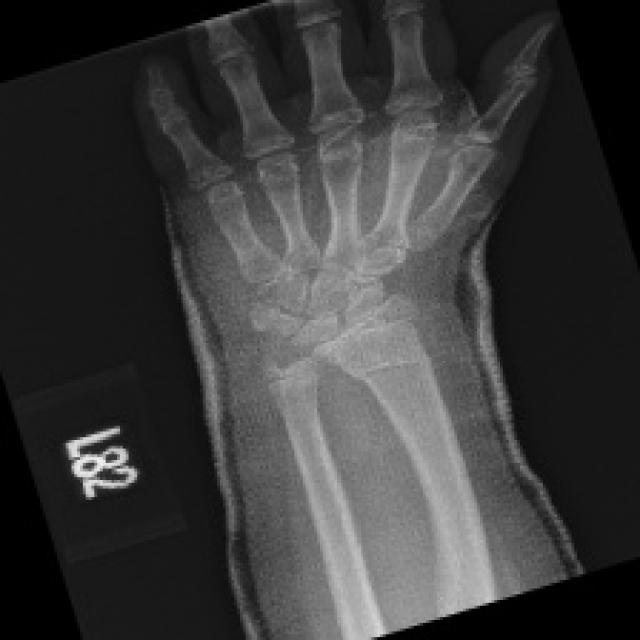fracture: (347, 344, 459, 416)
